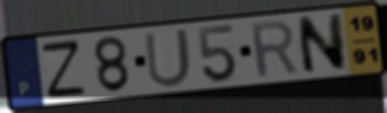5: (195, 22, 240, 85)
8: (92, 35, 131, 94)
N: (294, 11, 349, 77)
R: (247, 18, 301, 81)
U: (141, 25, 194, 90)
Z: (38, 37, 88, 100)
